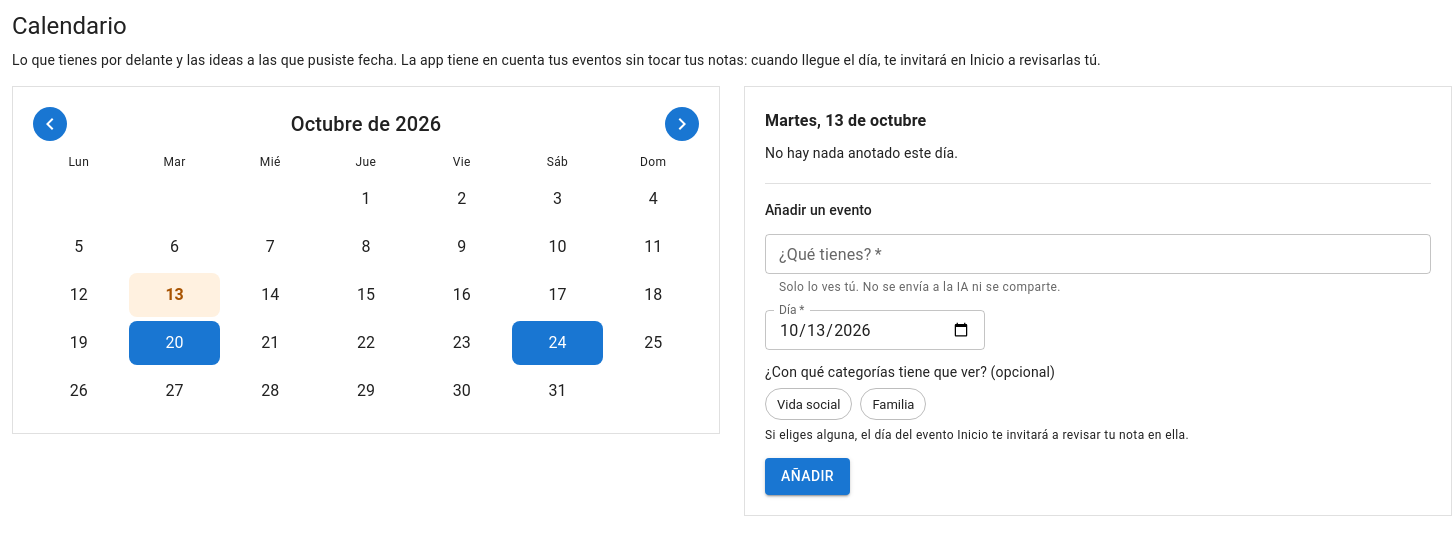
Test: CalendarPage (RF-48) › enseña el mes actual con los días que tienen algo marcados, y lo de hoy al abrir
expect the heading "octubre de 2026" is shown: met, box [291,112,441,136]
expect the button "20" is shown: met, box [129,321,220,365]
Click the button "24". click: (557, 343)
box: [512,321,603,365]
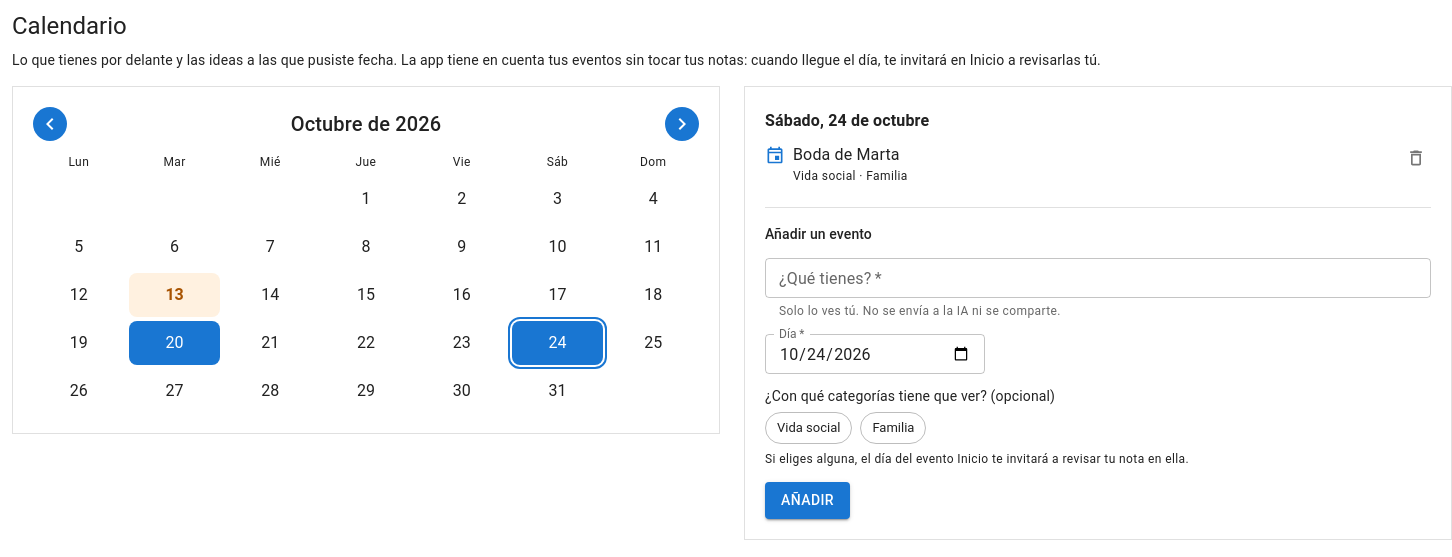
expect the text "Boda de Marta" is shown: met, box [793,145,900,164]
expect the text "Vida social · Familia" is shown: met, box [793,169,908,183]
